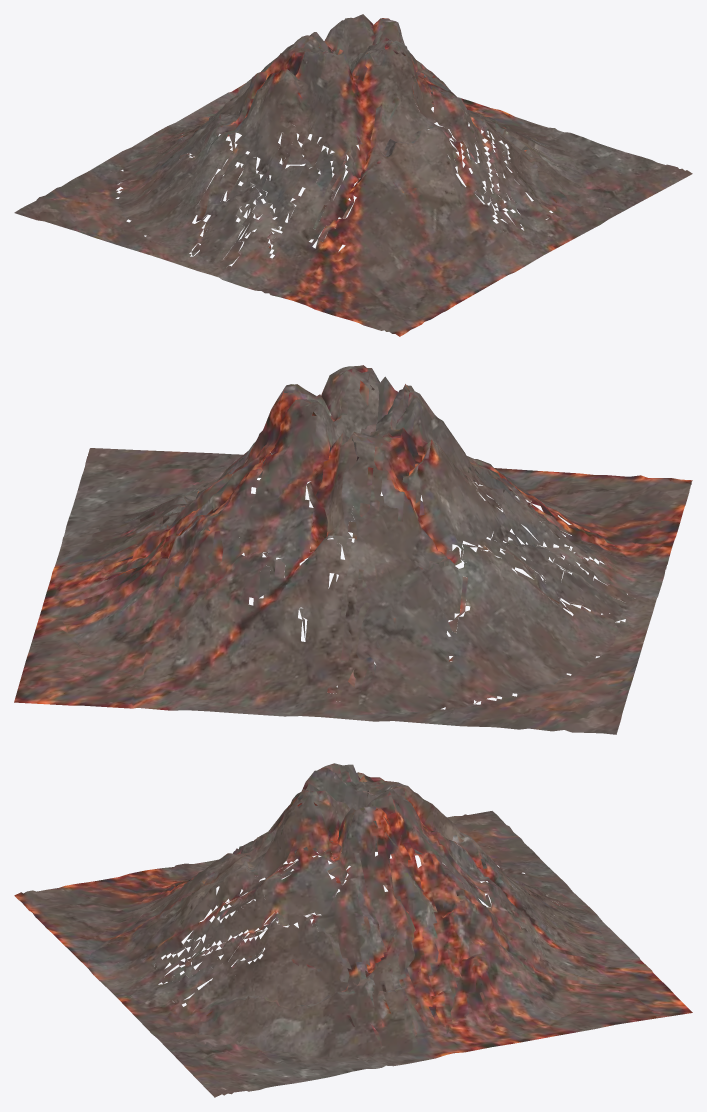
File: volcano.glb
3 views of the same model, one above another, from view 1: azimuth 30°, elevation 25°; view 2: azimuth 150°, elevation 25°; view 3: azimuth 270°, elevation 25° (orthographic). The views are drawn at different scales.
Parts seen in each view (by area): view 1: Landscape; view 2: Landscape; view 3: Landscape.
Part boxes in pixels (x1,y1,x2,y2): Landscape: (14, 14, 692, 336); Landscape: (14, 365, 692, 734); Landscape: (14, 763, 692, 1097).
Bounding box in the file's own units: 99.44 × 28.08 × 99.44.
Materials: 1 (1 with a texture image).
